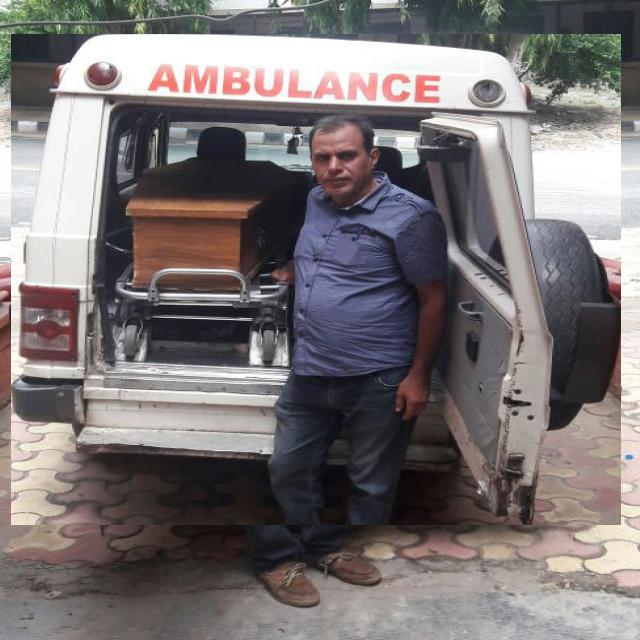emergency: (11, 35, 621, 525)
